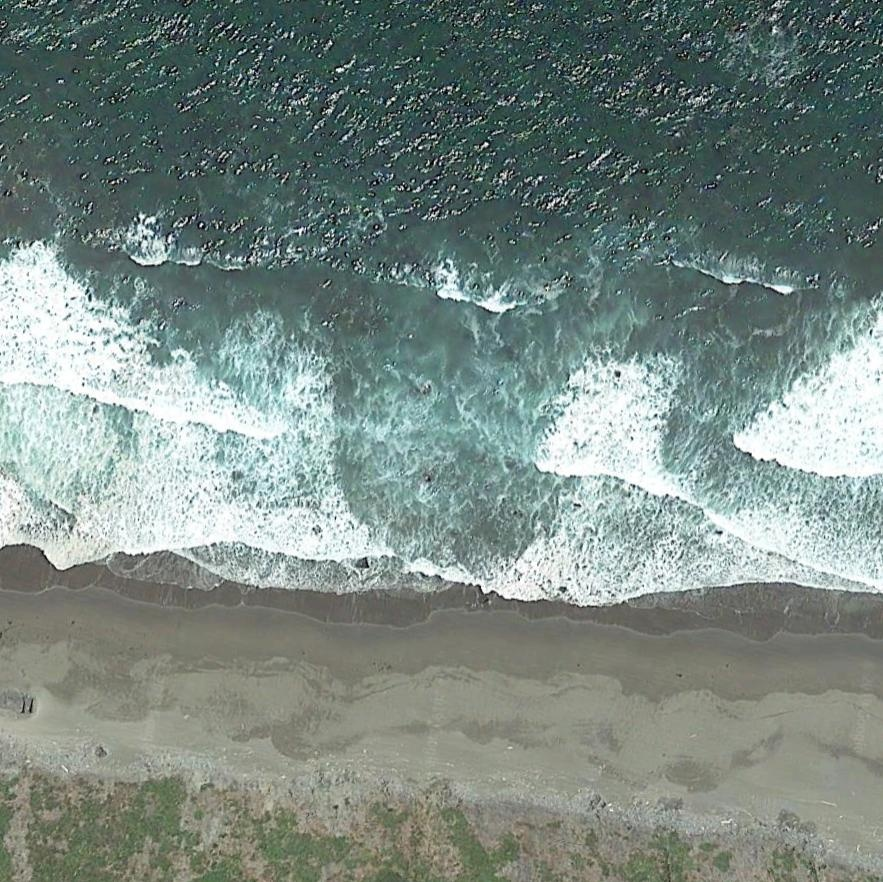rip_current: (290, 194, 588, 556)
